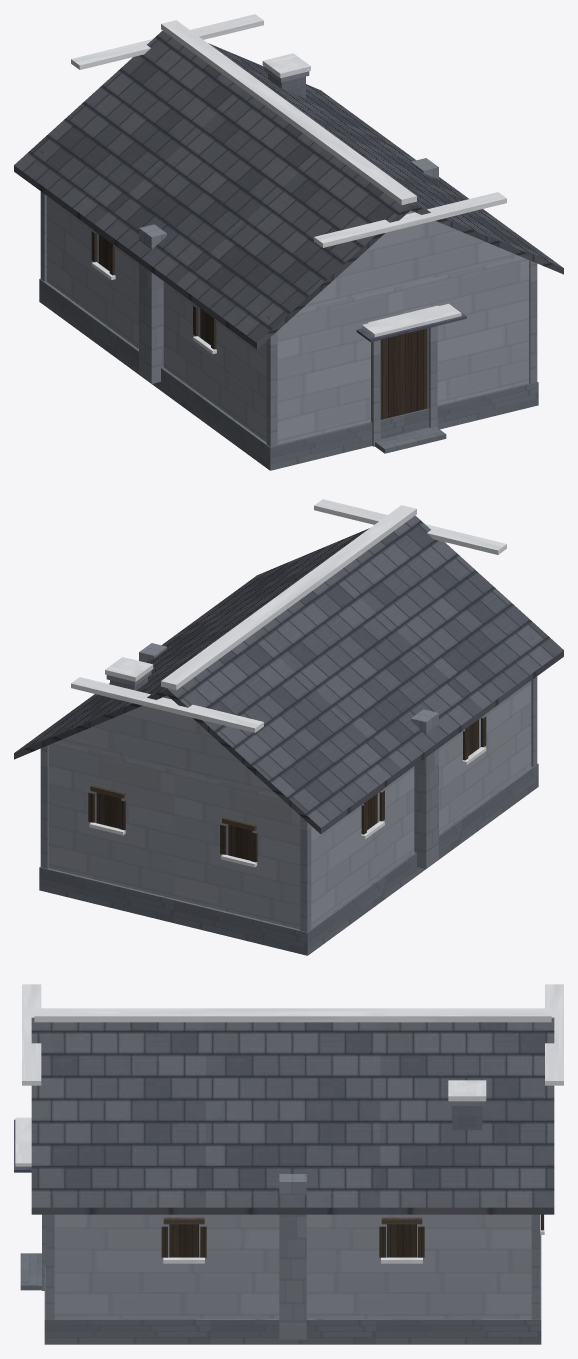
The model's file is ae_snow_stone_large_hall_lod0.glb.
The picture shows the model from 3 angles, top to bottom: view 1: azimuth 30°, elevation 25°; view 2: azimuth 150°, elevation 25°; view 3: azimuth 270°, elevation 25°; orthographic projection. The views are drawn at different scales.
Parts seen in each view (by area): view 1: ae_snow_stone_large_hall_lod0; view 2: ae_snow_stone_large_hall_lod0; view 3: ae_snow_stone_large_hall_lod0.
Boxes of the visible parts, x1,y1,x2,y2 form: ae_snow_stone_large_hall_lod0: [14, 14, 563, 470]; ae_snow_stone_large_hall_lod0: [14, 499, 563, 955]; ae_snow_stone_large_hall_lod0: [14, 984, 563, 1344].
Bounding box in the file's own units: 7 × 5.31 × 10.1.
1 material, 1 textured.
